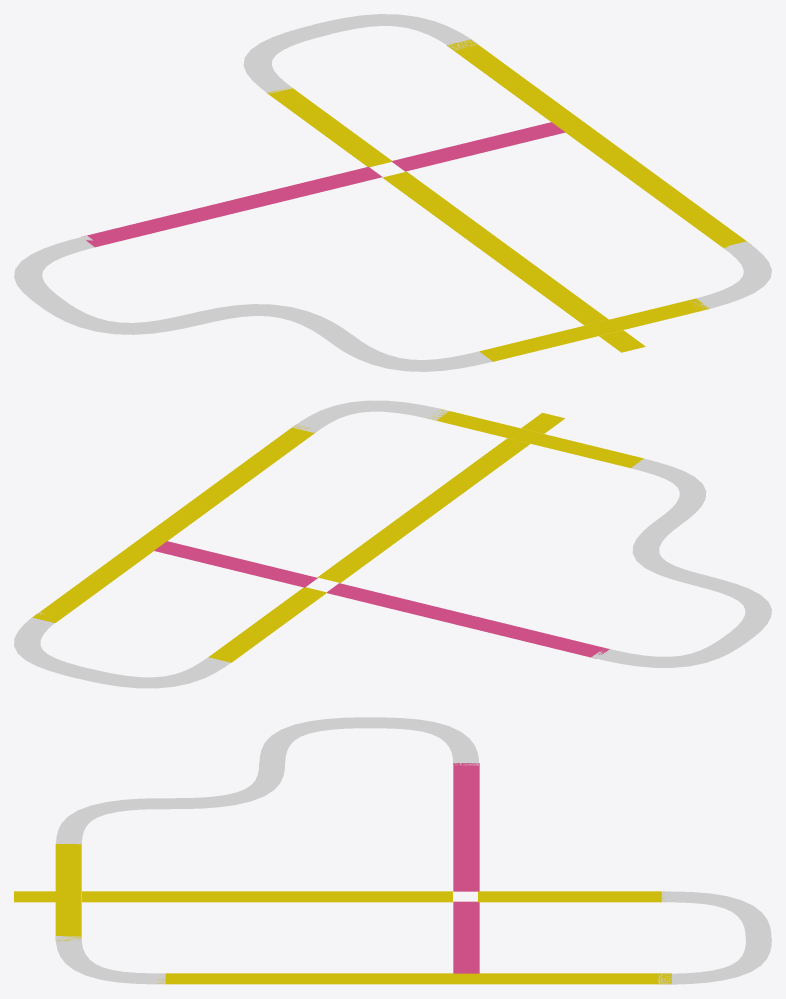
Rendered from mytrack.dae.
3 views of the same model, one above another, from view 1: azimuth 30°, elevation 25°; view 2: azimuth 150°, elevation 25°; view 3: azimuth 270°, elevation 25° (orthographic). The views are drawn at different scales.
Parts seen in each view (by area): view 1: roaf_medium.003, roaf_medium.007, roaf_medium.012, roaf_medium.001, road_large, roaf_medium.002, roaf_medium.006, road_piece.003, road_piece.002, road_piece.001, road_piece.010, road_piece.005 (+2 smaller); view 2: roaf_medium.003, roaf_medium.007, roaf_medium.012, roaf_medium.001, road_large, roaf_medium.002, roaf_medium.006, road_piece.006, road_piece.003, road_piece.001, road_piece.002, road_piece.010 (+3 smaller); view 3: roaf_medium.003, roaf_medium.007, roaf_medium.012, roaf_medium.001, road_large, roaf_medium.002, roaf_medium.006, road_piece.003, road_piece.010, road_piece.002, road_piece.006, road_piece.001 (+3 smaller).
Boxes of the visible parts, left/top/right/bottom form: roaf_medium.003: left=382, top=171, right=608, bottom=325; roaf_medium.007: left=81, top=167, right=382, bottom=247; roaf_medium.012: left=447, top=39, right=611, bottom=148; roaf_medium.001: left=588, top=142, right=751, bottom=248; road_large: left=479, top=298, right=709, bottom=361; roaf_medium.002: left=266, top=87, right=392, bottom=167; roaf_medium.006: left=391, top=122, right=565, bottom=171; road_piece.003: left=36, top=297, right=200, bottom=334; road_piece.002: left=328, top=335, right=492, bottom=371; road_piece.001: left=187, top=304, right=351, bottom=340; road_piece.010: left=243, top=24, right=330, bottom=93; road_piece.005: left=314, top=14, right=478, bottom=50; roaf_medium.003: left=317, top=438, right=530, bottom=582; roaf_medium.007: left=327, top=583, right=609, bottom=658; roaf_medium.012: left=32, top=520, right=187, bottom=622; roaf_medium.001: left=166, top=425, right=315, bottom=526; road_large: left=427, top=408, right=643, bottom=468; roaf_medium.002: left=208, top=587, right=327, bottom=662; roaf_medium.006: left=154, top=541, right=317, bottom=587; road_piece.006: left=292, top=400, right=449, bottom=432; road_piece.003: left=695, top=576, right=771, bottom=642; road_piece.001: left=632, top=519, right=708, bottom=585; road_piece.002: left=631, top=458, right=706, bottom=524; road_piece.010: left=76, top=657, right=230, bottom=688; roaf_medium.003: left=82, top=891, right=452, bottom=902; roaf_medium.007: left=453, top=763, right=479, bottom=891; roaf_medium.012: left=412, top=973, right=671, bottom=984; roaf_medium.001: left=158, top=973, right=413, bottom=984; road_large: left=55, top=844, right=81, bottom=941; roaf_medium.002: left=478, top=891, right=664, bottom=902; roaf_medium.006: left=453, top=901, right=479, bottom=973; road_piece.003: left=259, top=717, right=375, bottom=763; road_piece.010: left=661, top=891, right=771, bottom=939; road_piece.002: left=56, top=798, right=171, bottom=844; road_piece.006: left=56, top=936, right=165, bottom=984; road_piece.001: left=171, top=762, right=284, bottom=808.
Bounding box in the file's own units: 175 × 210 × 0.
